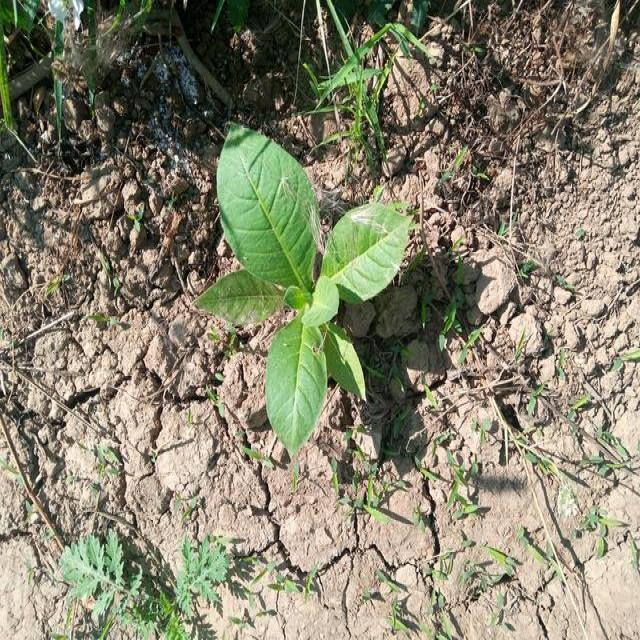crop: (202, 122, 404, 447)
